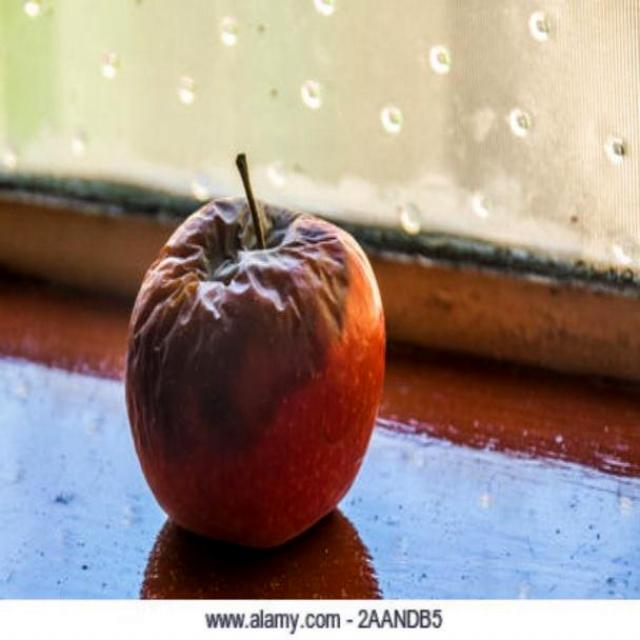ROT: (97, 129, 416, 536)
